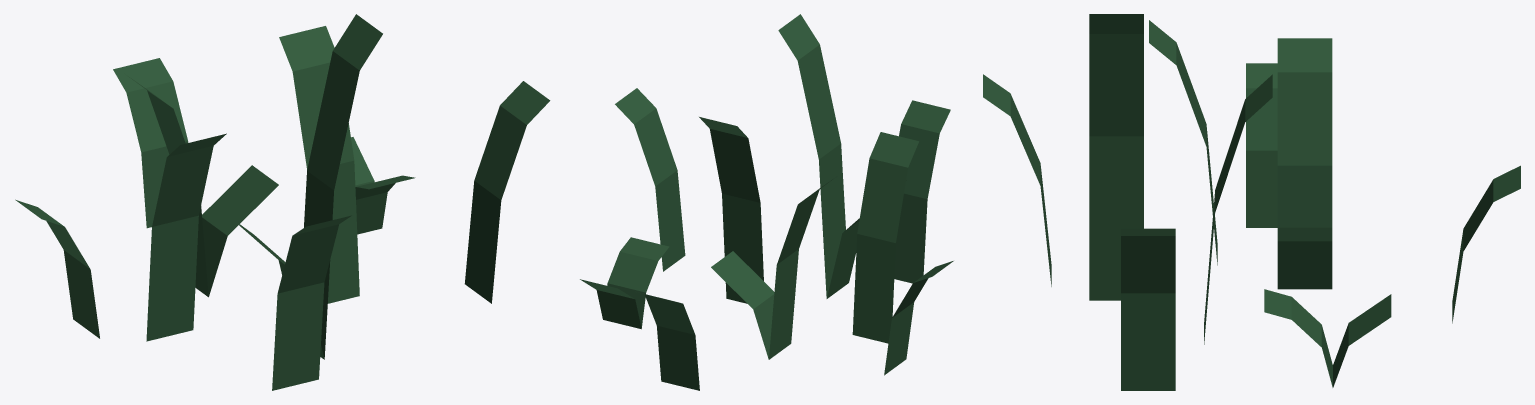
The model's file is grass.glb.
3 renders of one model, left to right at view 1: azimuth 30°, elevation 25°; view 2: azimuth 150°, elevation 25°; view 3: azimuth 270°, elevation 25°, orthographic. The views are drawn at different scales.
Parts seen in each view (by area): view 1: grass; view 2: grass; view 3: grass.
Boxes of the visible parts, x1,y1,x2,y2 form: grass: (15, 14, 550, 390); grass: (580, 14, 953, 390); grass: (983, 14, 1520, 390).
Size of the model in its own units: 0.3811 by 0.254 by 0.3922.
